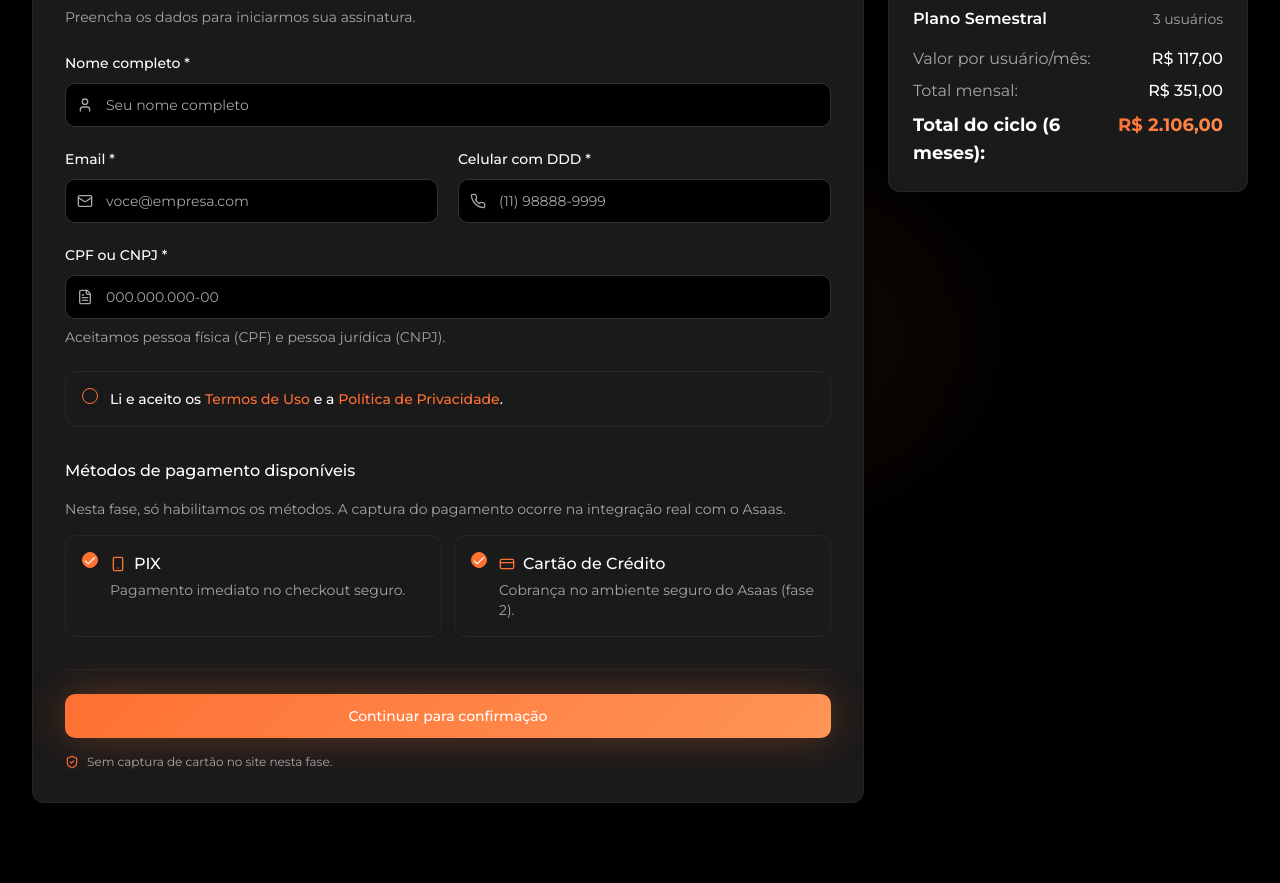
Checkout page › bloqueia submit sem dados obrigatórios
(page scrolled)
What coordinates should you click on to do the following:
click the button "Continuar para confirmação"
I would click on:
 (448, 716)
Its box is [65, 694, 831, 738].
(page scrolled)
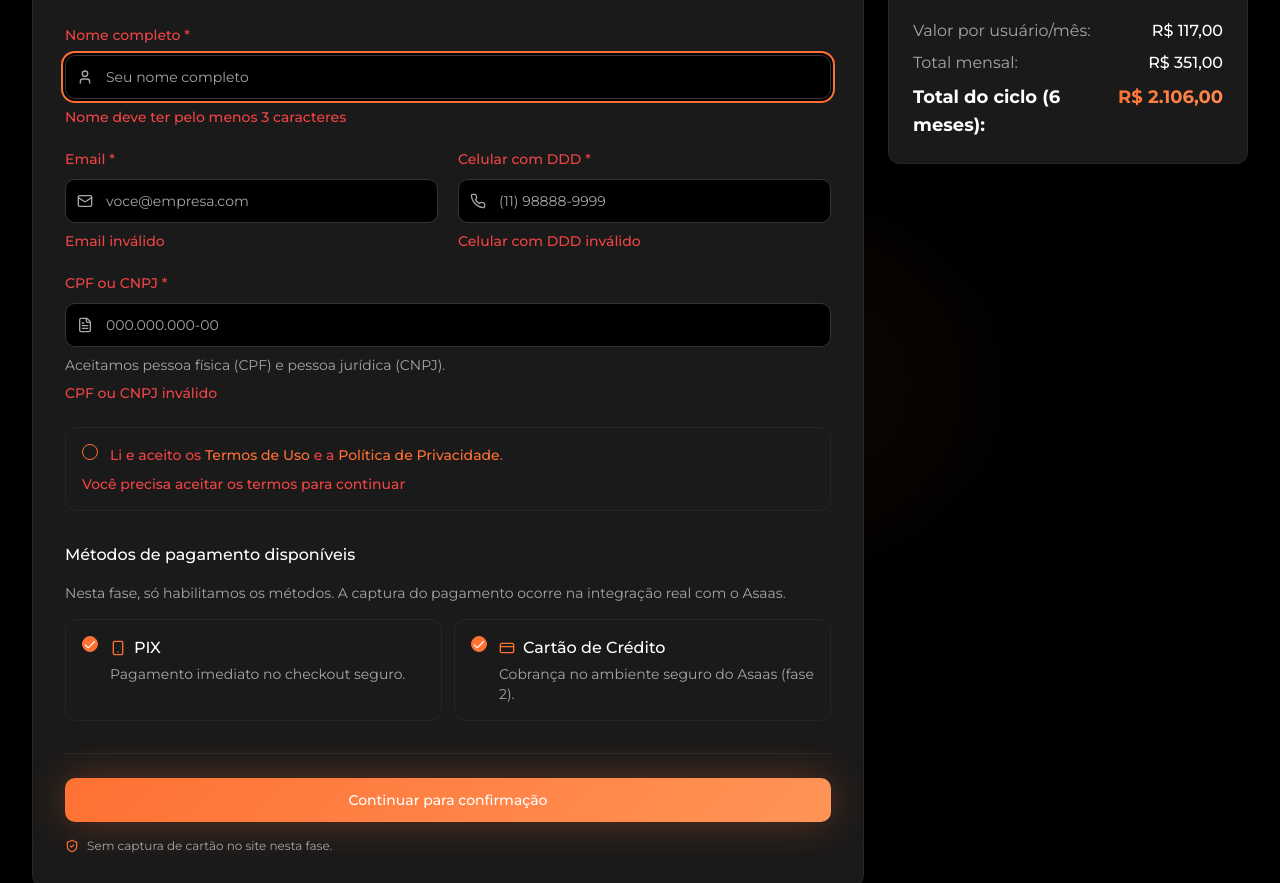
Expected: the text "Você precisa aceitar os termos para continuar" is shown, [82, 475, 405, 493]
